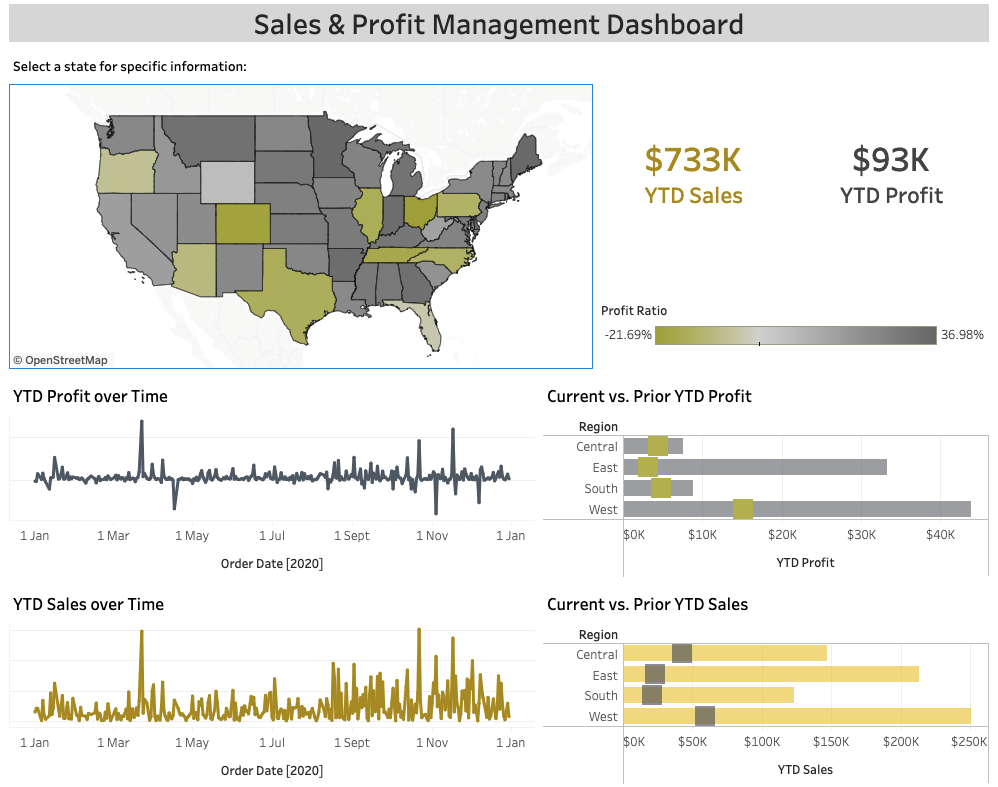

This screenshot's page, from the dashboard's own definition file:
{"tool":"tableau","page":{"name":"Sales & Profit Management Dashboard","canvas":[1000,800],"ordinal":0},"visuals":[{"type":"title","box":[6,6,988,45]},{"type":"worksheet","title":"Ratio MAP","mark":"Automatic","box":[6,51,591.5,327.7]},{"type":"worksheet","title":"YTD Sales","mark":"Automatic","box":[597.5,51,192.2,252]},{"type":"worksheet","title":"YTD Profit","mark":"Automatic","box":[789.7,51,204.3,252]},{"type":"legend","title":"Ratio MAP","param":"[federated.11s0ake1nh3x8210notp81co4sbt].[usr:Calculation_2244411111290019845:qk","box":[597.5,303,396.5,75.7]},{"type":"worksheet","title":"Profit Sparkline","mark":"Automatic","rows":["YTD Sales (copy)_2244411111272013827"],"cols":["Order Date"],"box":[6,378.7,534.2,207.6]},{"type":"worksheet","title":"Dual-axis Profit","mark":"Automatic","rows":["Region"],"cols":["YTD Sales (copy)_2244411111272013827","Prior YTD Sales (copy)_2244411111298002951"],"box":[540.2,378.7,453.8,207.6]},{"type":"worksheet","title":"Sales Sparkline","mark":"Automatic","rows":["Calculation_2244411111268483072"],"cols":["Order Date"],"box":[6,586.3,534.2,207.7]},{"type":"worksheet","title":"Dual-axis Sales","mark":"Automatic","rows":["Region"],"cols":["Calculation_2244411111268483072","Calculation_2244411111293980678"],"box":[540.2,586.3,453.8,207.7]}]}

Visuals, with their boxes in screenshot pixels (x1, y1, x2, y2), scaled from the page's 1000x800 canvas onto the 998x787 screenshot:
title: [x1=6, y1=6, x2=992, y2=50]
"Ratio MAP" worksheet: [x1=6, y1=50, x2=596, y2=373]
"YTD Sales" worksheet: [x1=596, y1=50, x2=788, y2=298]
"YTD Profit" worksheet: [x1=788, y1=50, x2=992, y2=298]
"Ratio MAP" legend: [x1=596, y1=298, x2=992, y2=373]
"Profit Sparkline" worksheet: [x1=6, y1=373, x2=539, y2=577]
"Dual-axis Profit" worksheet: [x1=539, y1=373, x2=992, y2=577]
"Sales Sparkline" worksheet: [x1=6, y1=577, x2=539, y2=781]
"Dual-axis Sales" worksheet: [x1=539, y1=577, x2=992, y2=781]
